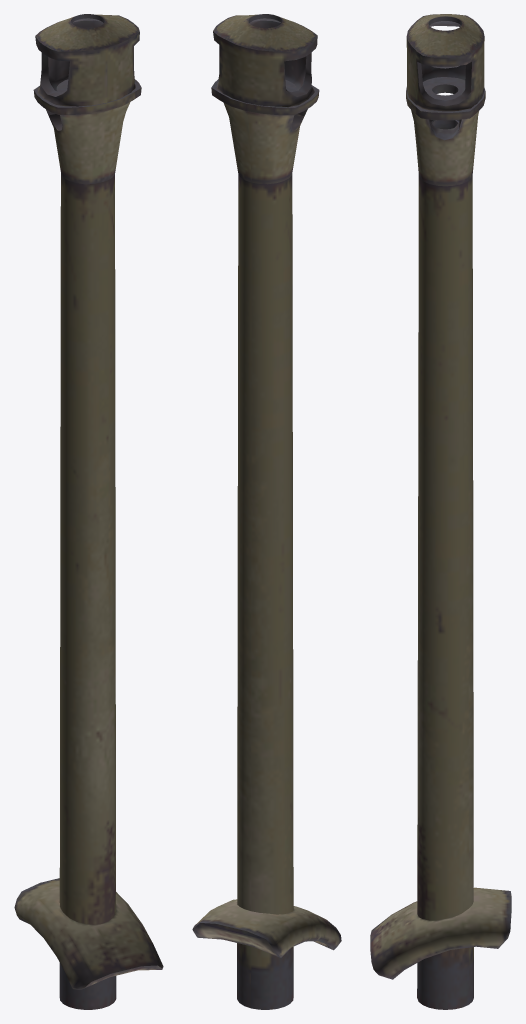
Rendered from Gun_04.glb.
3 views of the same model, side by side, from view 1: azimuth 30°, elevation 25°; view 2: azimuth 150°, elevation 25°; view 3: azimuth 270°, elevation 25° (orthographic).
Parts seen in each view (by area): view 1: set_0_group_0; view 2: set_0_group_0; view 3: set_0_group_0.
Part boxes in pixels (x1,y1,x2,y2): set_0_group_0: (14,14,163,1009); set_0_group_0: (192,14,341,1009); set_0_group_0: (370,14,511,1009).
Size of the model in its own units: 0.308 by 3.15 by 0.4138.
Materials: 1 (1 with a texture image).
